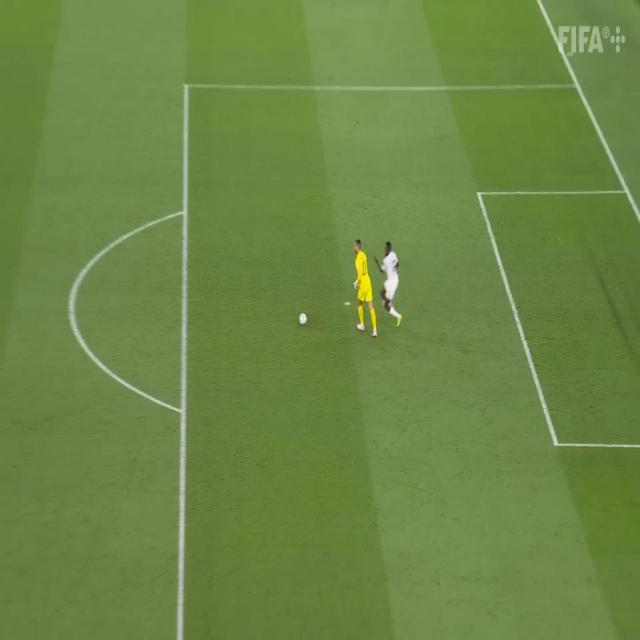football: (295, 310, 313, 335)
